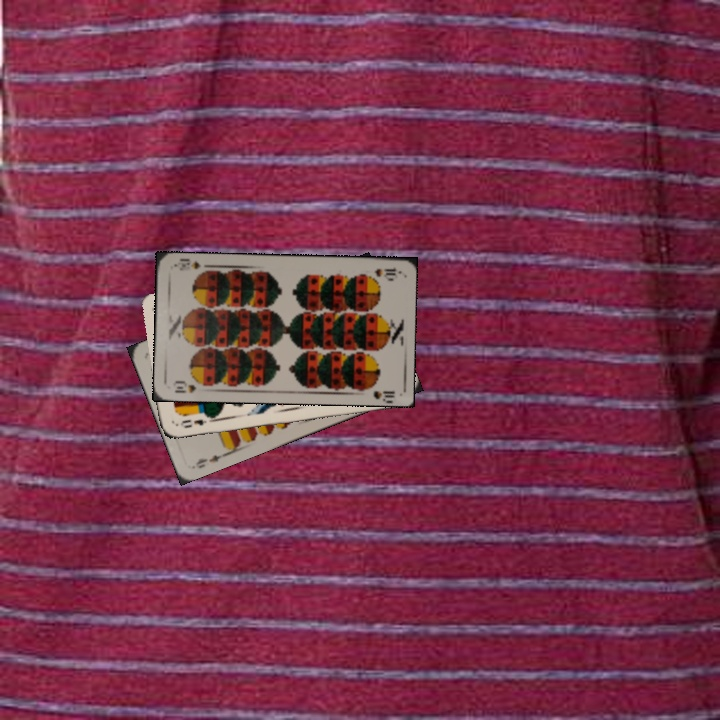E9: (189, 449, 229, 471)
EO: (176, 410, 213, 431)
S10: (169, 377, 209, 395), (371, 263, 399, 280)
